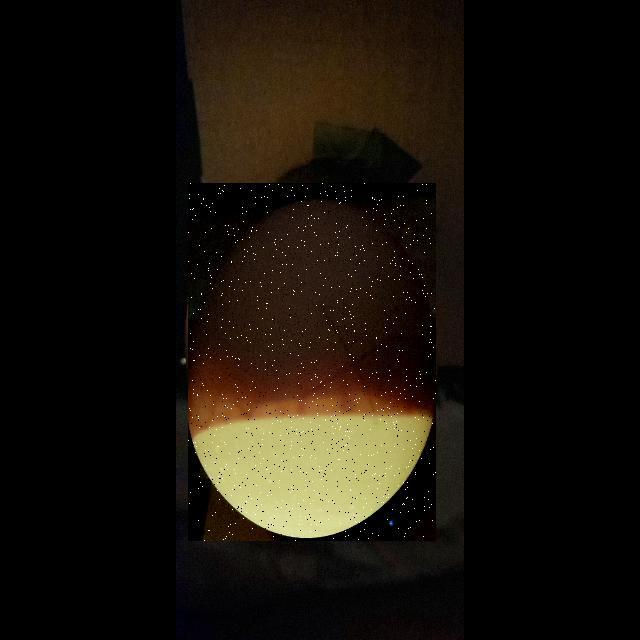Fertile: (188, 183, 436, 541)
